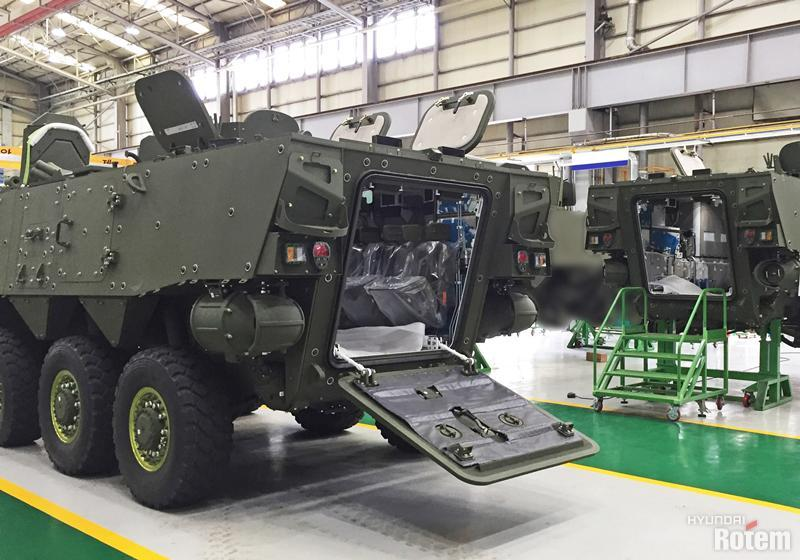MIL_IFV: (2, 71, 603, 506)
